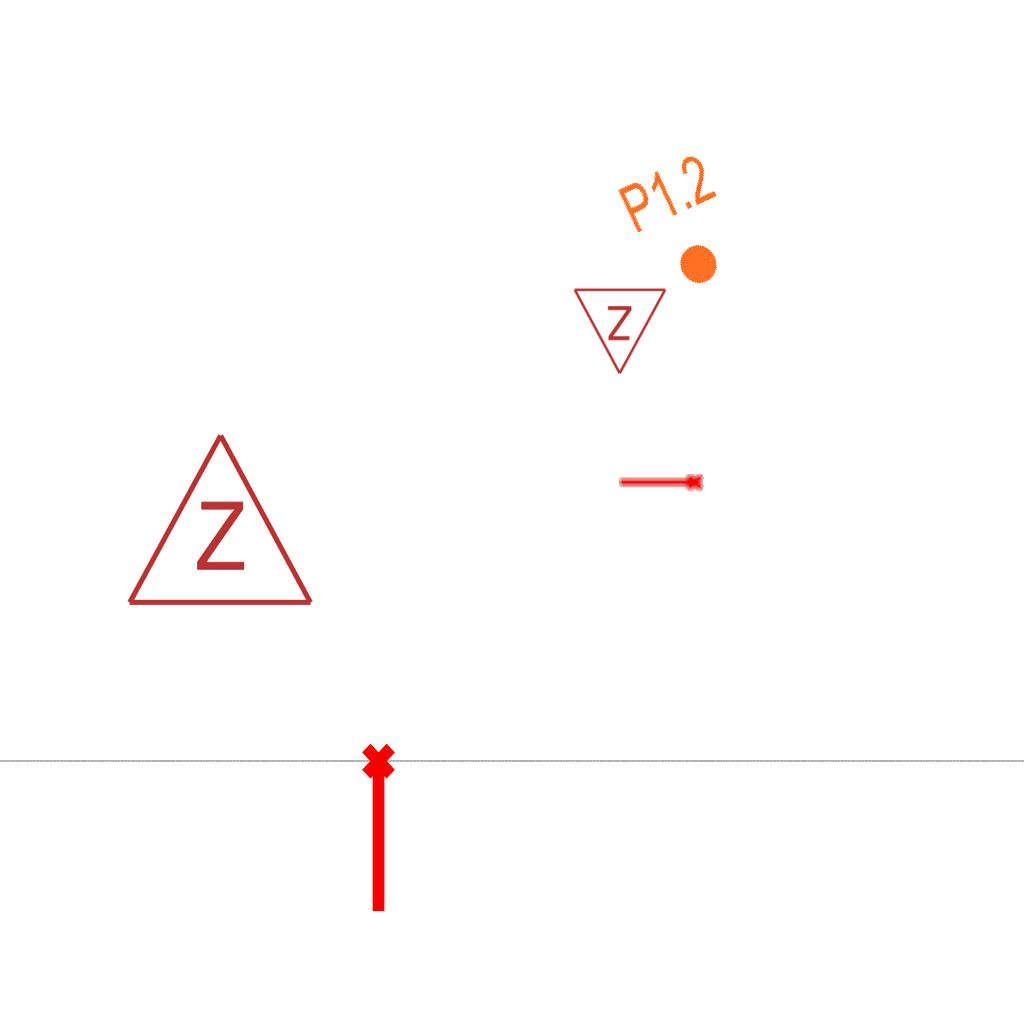ASR_Ansaugoeffnung: (358, 741, 404, 917), (617, 472, 705, 495)
Downlight_LED_Einbauleuchten_Flur: (613, 148, 752, 304)
Zimmersignalleuchte: (120, 420, 316, 620), (572, 281, 670, 381)
